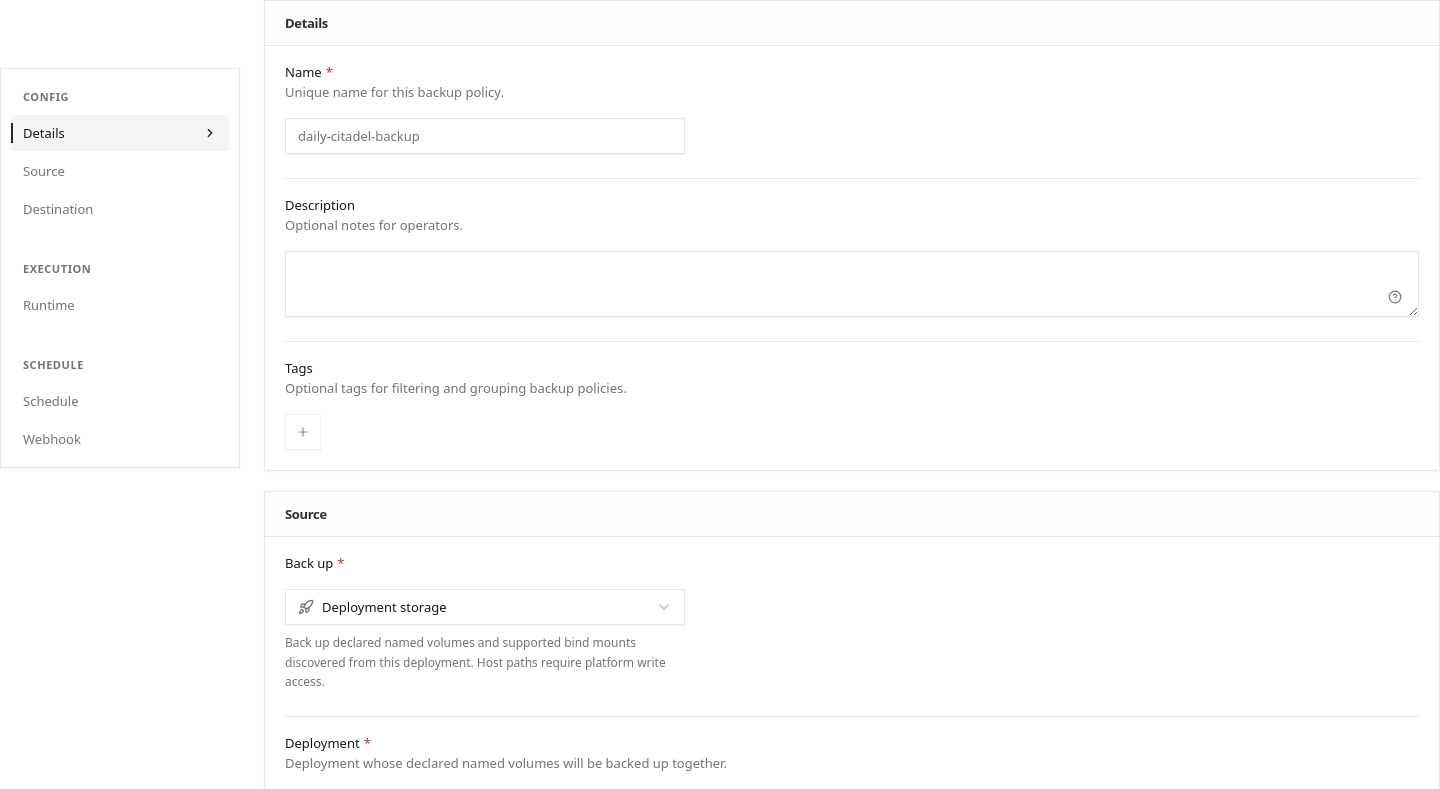
hides system recovery without confirmed administrator access (false)
Click the dropdown named "Back up" at (384, 607), box [285,589,685,625]
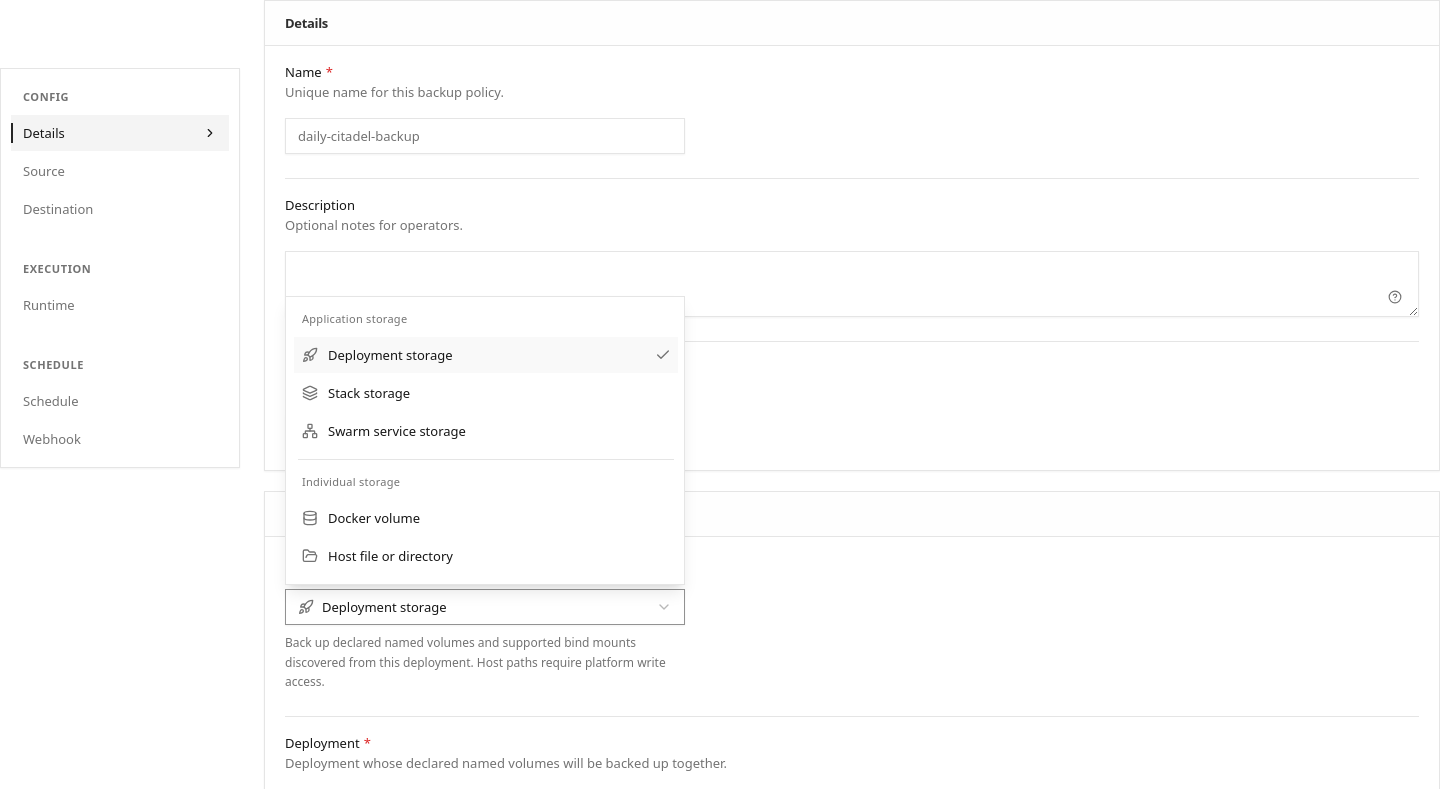
Result: the option "Docker volume" is shown at [302,509,420,527]
